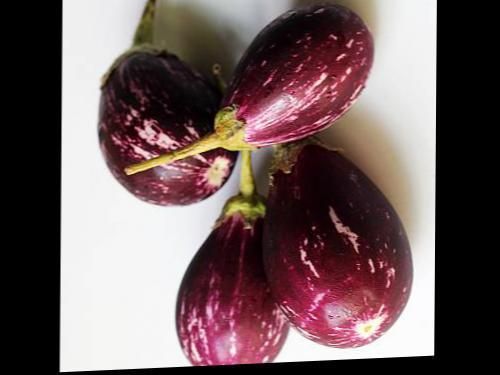eggplant: (138, 0, 373, 183), (228, 140, 418, 354), (61, 0, 237, 228), (142, 158, 300, 368)
